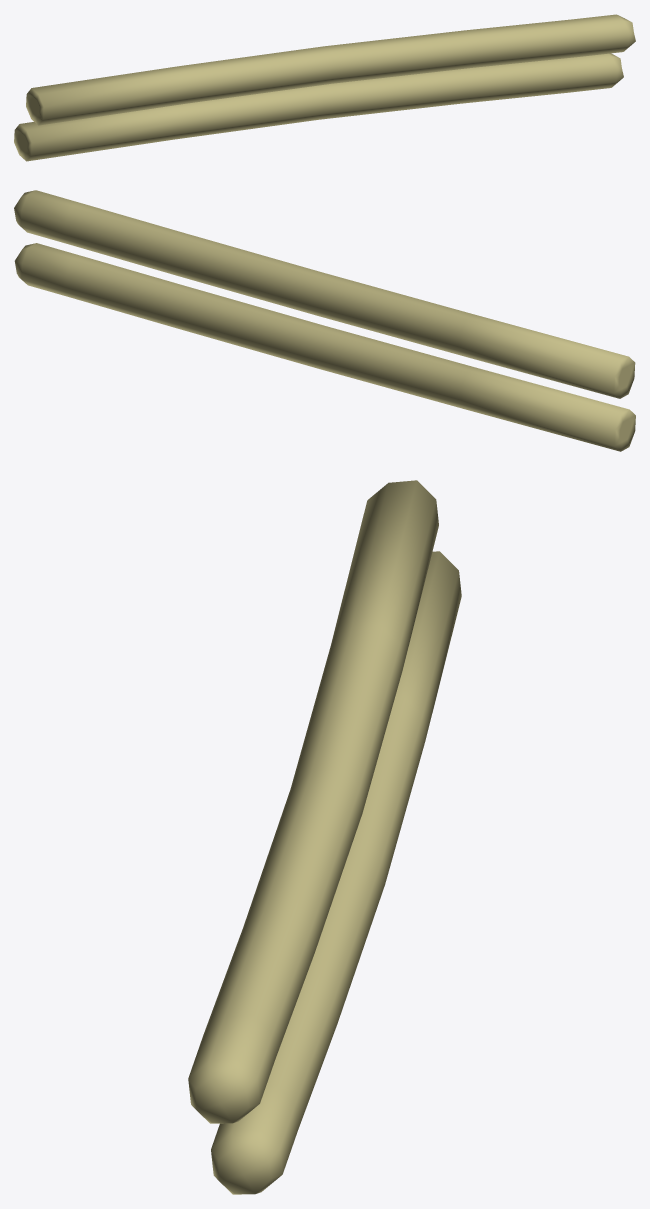
File: Nervio_Glossofaringeo.FBX
3 renders of one model, top to bottom at view 1: azimuth 30°, elevation 25°; view 2: azimuth 150°, elevation 25°; view 3: azimuth 270°, elevation 25°, orthographic. The views are drawn at different scales.
Parts seen in each view (by area): view 1: Nerves_L8; view 2: Nerves_L8; view 3: Nerves_L8.
Boxes of the visible parts, x1=… form: Nerves_L8: x1=14, y1=14, x2=635, y2=161; Nerves_L8: x1=14, y1=190, x2=635, y2=451; Nerves_L8: x1=188, y1=480, x2=461, y2=1194.
Size of the model in its own units: 0.2505 by 0.0413 by 0.0531.
